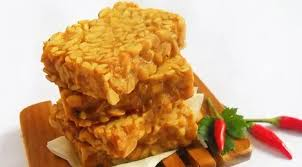Tempe goreng: (41, 2, 188, 102), (53, 75, 193, 124), (45, 108, 174, 160)
